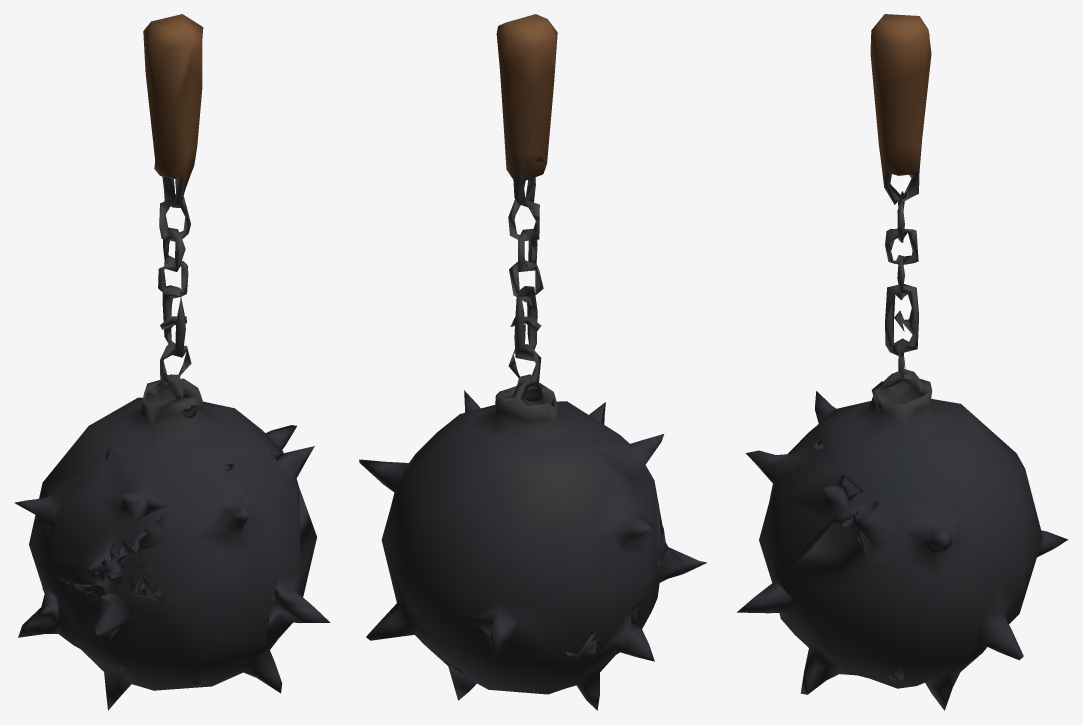
The model's file is gen3d-flail-lod0.glb.
The picture shows the model from 3 angles, left to right: view 1: azimuth 30°, elevation 25°; view 2: azimuth 150°, elevation 25°; view 3: azimuth 270°, elevation 25°; orthographic projection.
Parts seen in each view (by area): view 1: part_0; view 2: part_0; view 3: part_0.
Part boxes in pixels (x1=…): part_0: x1=14, y1=14, x2=330, y2=710; part_0: x1=359, y1=14, x2=706, y2=710; part_0: x1=737, y1=14, x2=1068, y2=710.
Size of the model in its own units: 0.4488 by 0.9994 by 0.4498.
